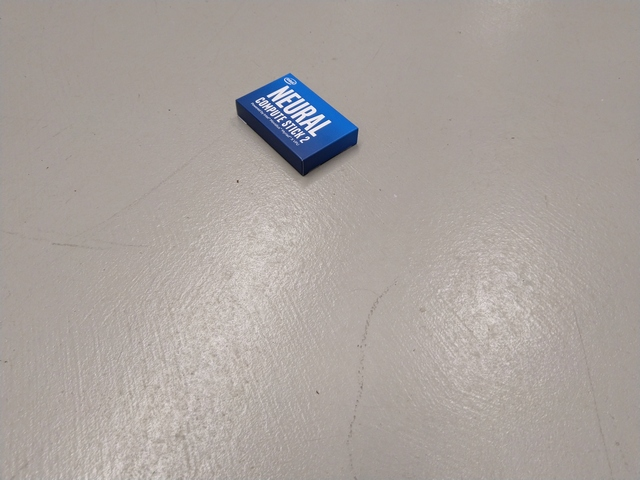box: (235, 72, 360, 178)
